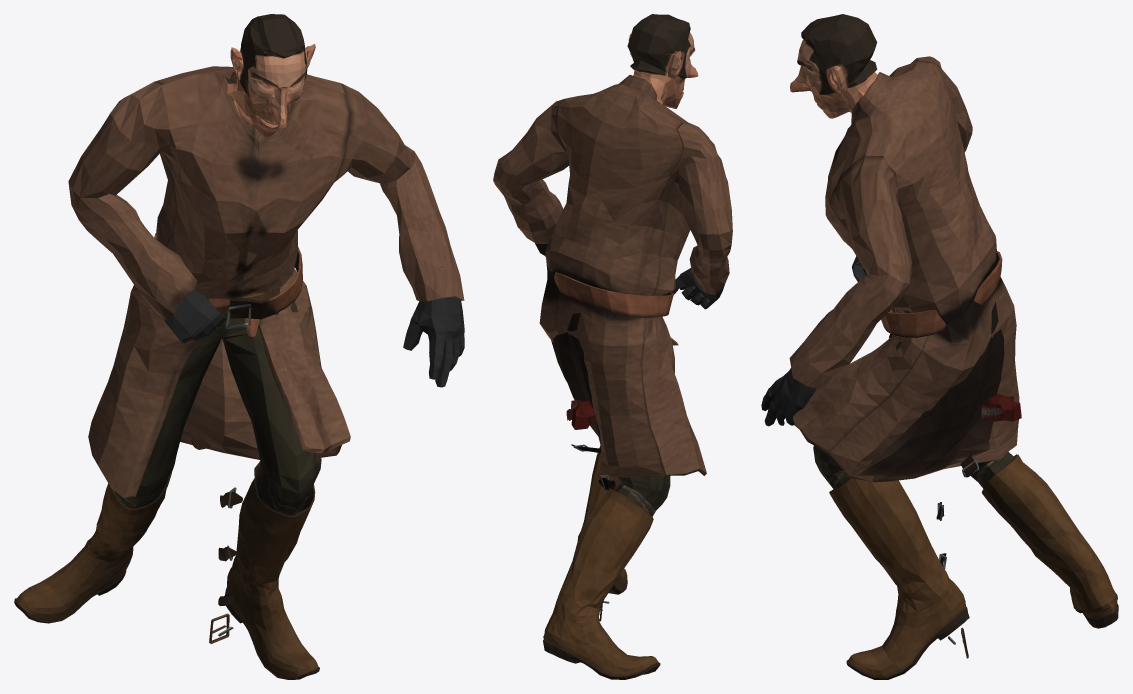
File: sniper01_000004.obj
The picture shows the model from 3 angles, left to right: view 1: azimuth 30°, elevation 25°; view 2: azimuth 150°, elevation 25°; view 3: azimuth 270°, elevation 25°; orthographic projection. The views are drawn at different scales.
Visible parts, largest first — view 1: Tops, Shoes, Bottoms, BodyParts; view 2: Tops, Shoes, BodyParts, Bottoms; view 3: Tops, Shoes, BodyParts, Bottoms.
Boxes of the visible parts, <box> form: Tops: <box>68,66,464,636</box>; Shoes: <box>14,461,319,679</box>; Bottoms: <box>115,287,321,643</box>; BodyParts: <box>162,14,464,387</box>; Tops: <box>493,75,732,603</box>; Shoes: <box>543,445,660,679</box>; BodyParts: <box>535,14,724,429</box>; Bottoms: <box>599,476,670,621</box>; Tops: <box>789,56,1019,644</box>; Shoes: <box>829,454,1118,679</box>; BodyParts: <box>761,14,1021,426</box>; Bottoms: <box>813,308,1014,658</box>.
Size of the model in its own units: 1.18 by 2.41 by 1.22.
